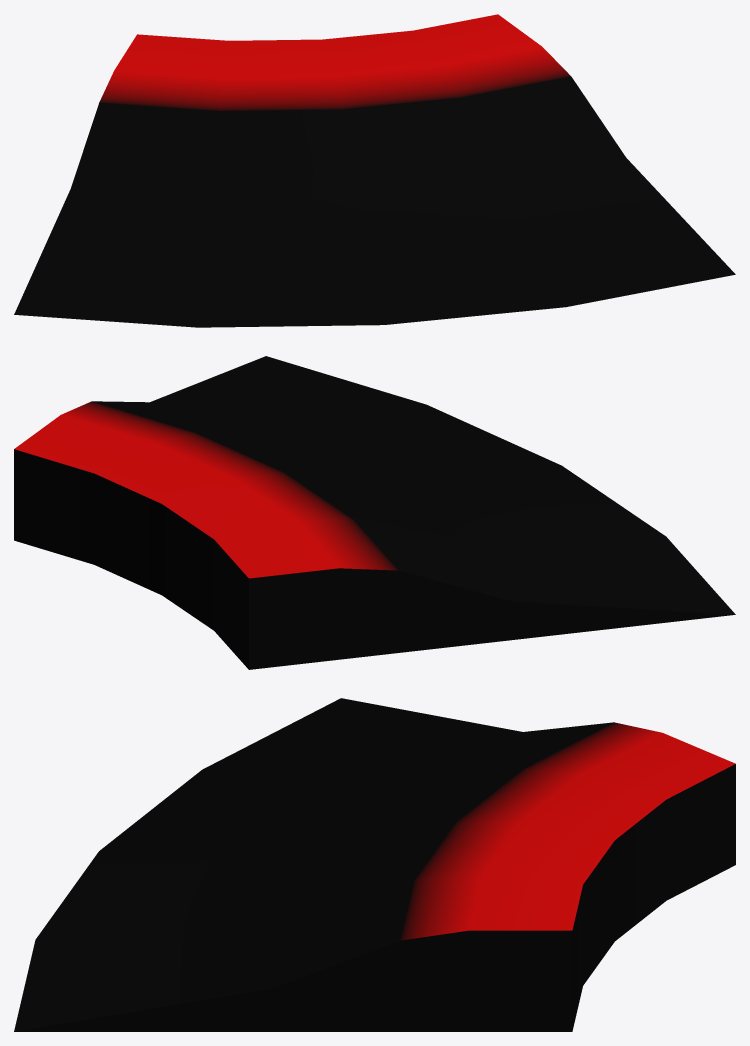
File: PlatformArchDeclineIn_45Deg.fbx
3 views of the same model, one above another, from view 1: azimuth 30°, elevation 25°; view 2: azimuth 150°, elevation 25°; view 3: azimuth 270°, elevation 25° (orthographic). The views are drawn at different scales.
Visible parts, largest first — view 1: PlatformArchDeclineIn_45Deg; view 2: PlatformArchDeclineIn_45Deg; view 3: PlatformArchDeclineIn_45Deg.
Boxes of the visible parts, left/top/right/bottom form: PlatformArchDeclineIn_45Deg: left=14, top=14, right=735, bottom=327; PlatformArchDeclineIn_45Deg: left=14, top=356, right=735, bottom=669; PlatformArchDeclineIn_45Deg: left=14, top=698, right=735, bottom=1031.
Bounding box in the file's own units: 7.07 × 1 × 6.46.
